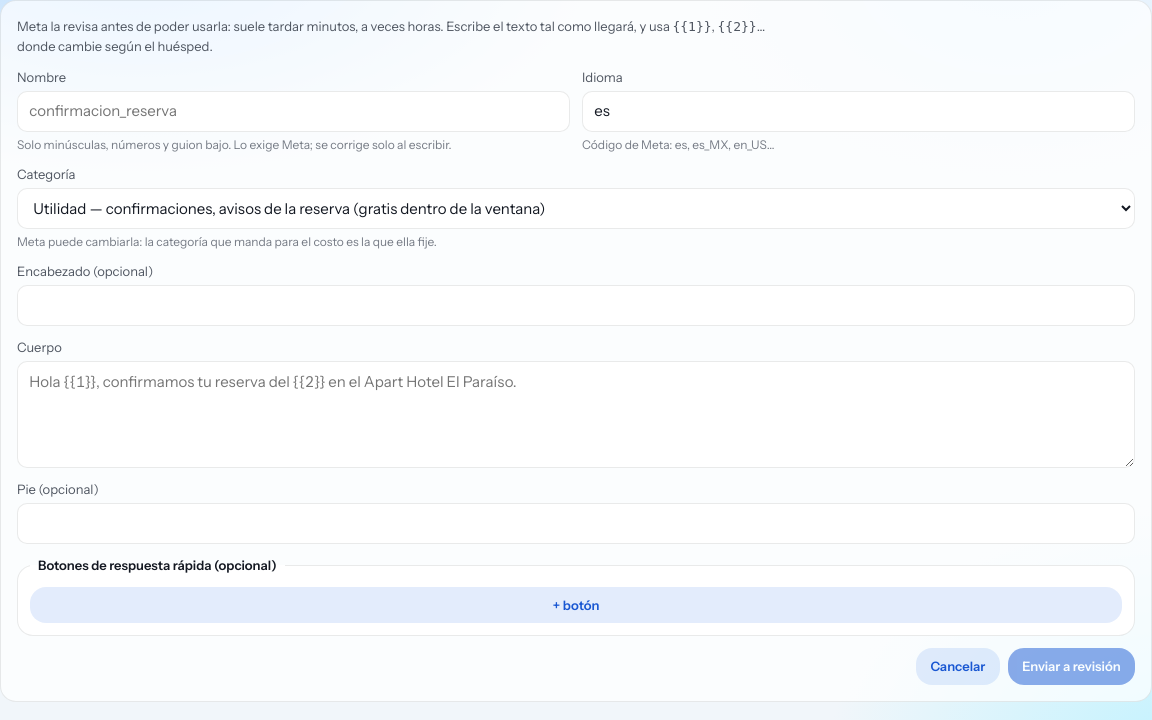
Test case: NuevaPlantilla › el nombre se corrige solo a lo que Meta admite
The width and height of the screenshot is (1152, 720).
Type "Confirmación Reserva" into the field labelled "Nombre" at (294, 111), box [17,90,570,132]
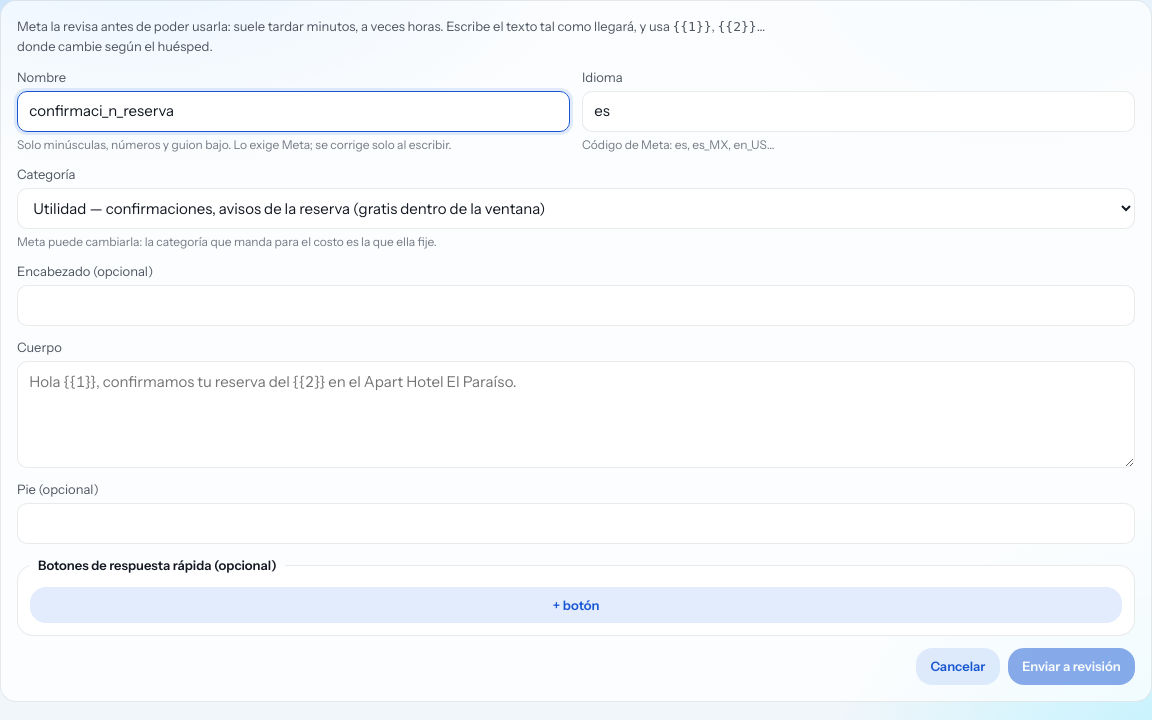
Check: the field labelled "Nombre" holds "confirmaci_n_reserva", box [17,90,570,132]
